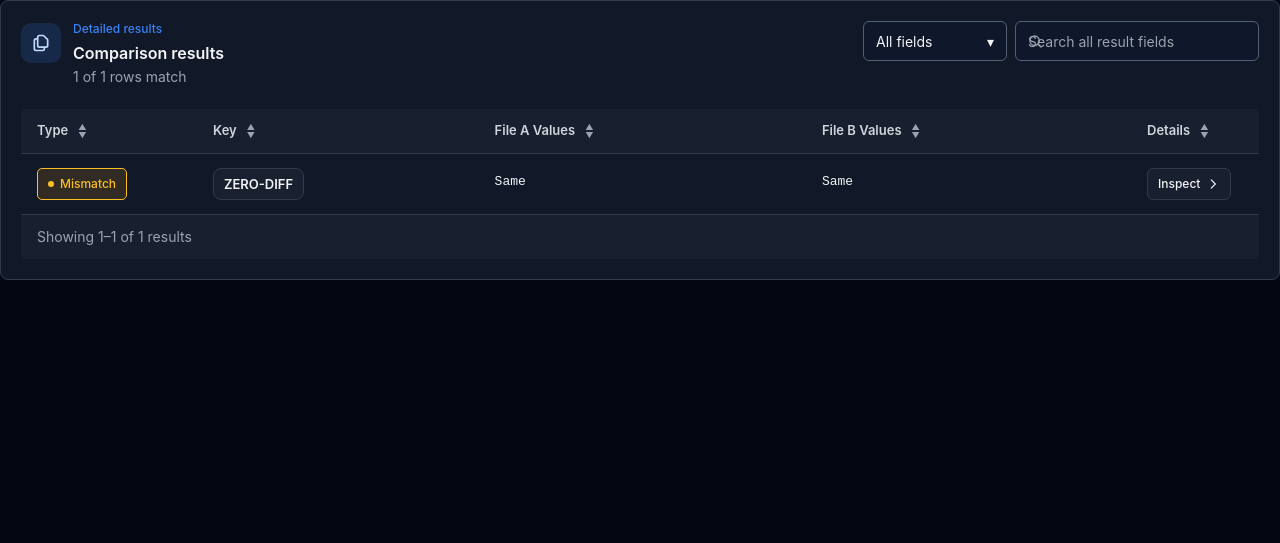
Test case: lets zero-diff mismatch rows fall back to the shared inspect panel
The width and height of the screenshot is (1280, 543).
Click the button "Inspect".
click(1189, 184)  # box [1147,168,1231,200]
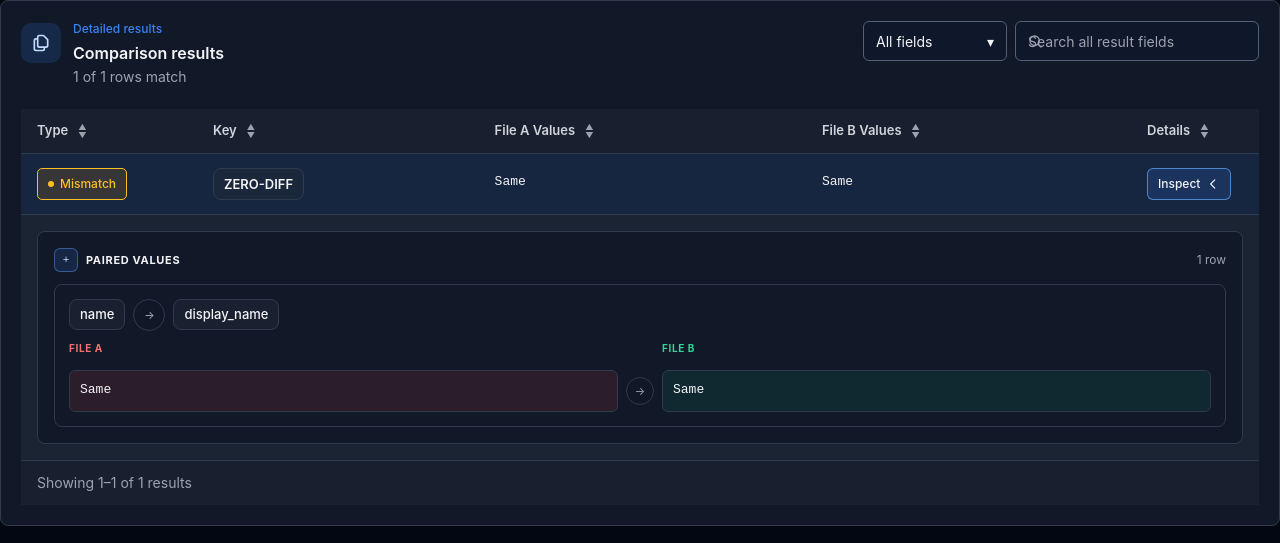
Now the text "Paired Values" is shown, box [86,253,180,267]
